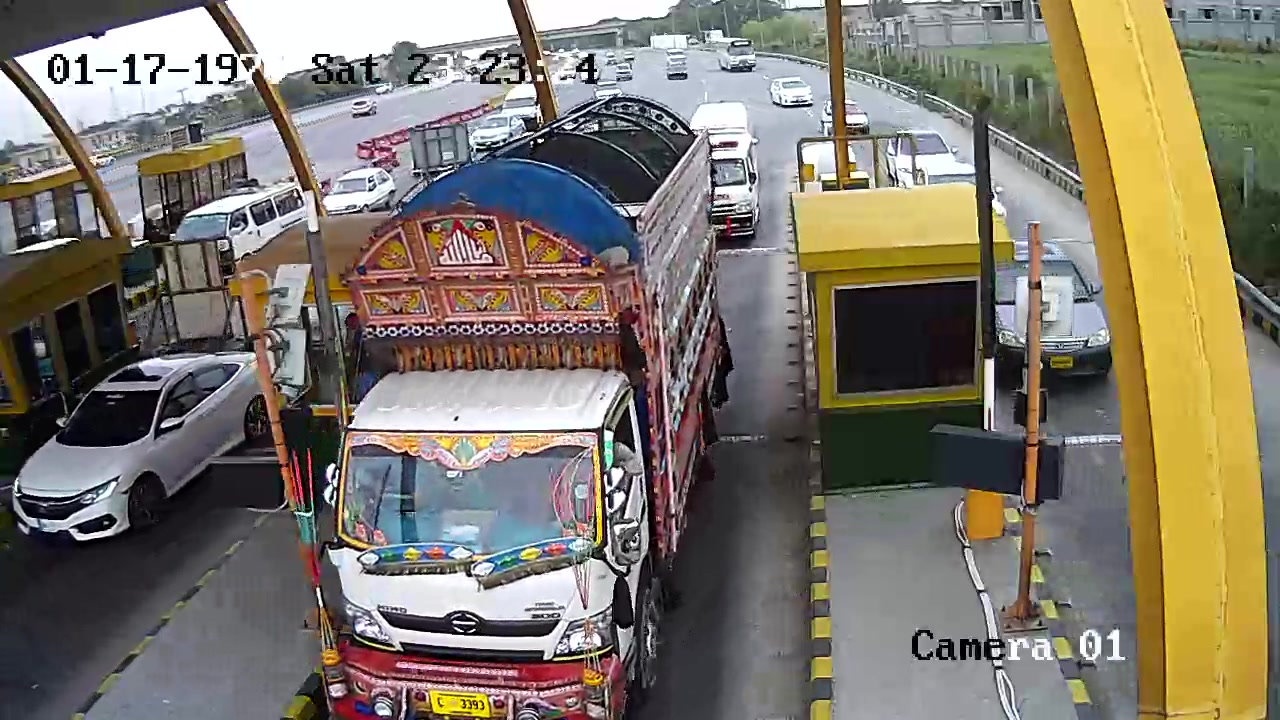F5: (320, 82, 721, 717)
